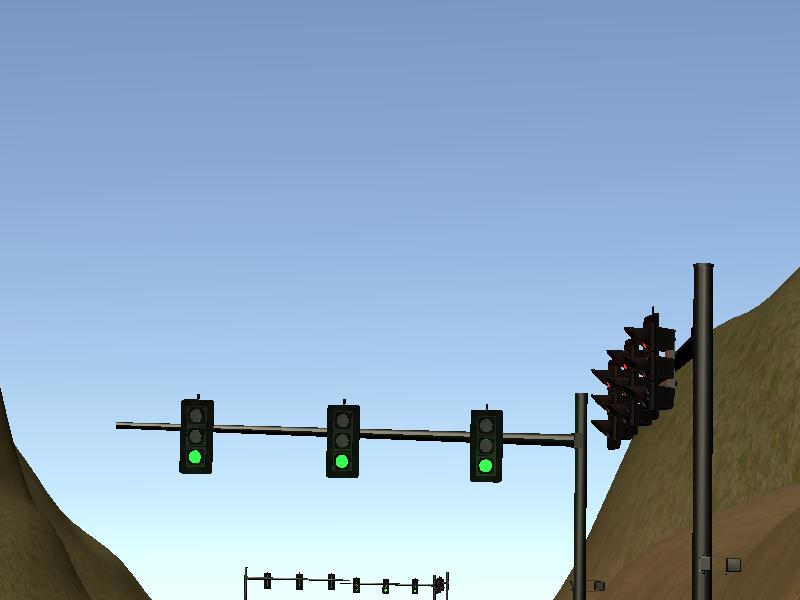not_red: (470, 408, 503, 482), (327, 406, 359, 478), (182, 400, 212, 475)
